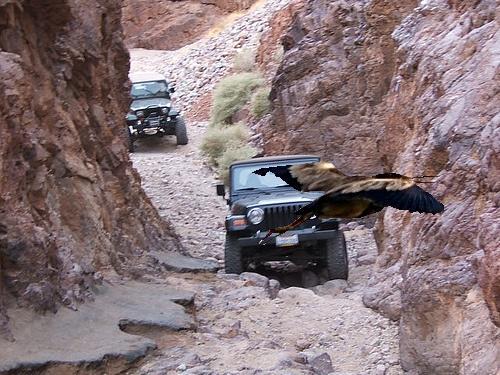tampered: (253, 162, 444, 245)
